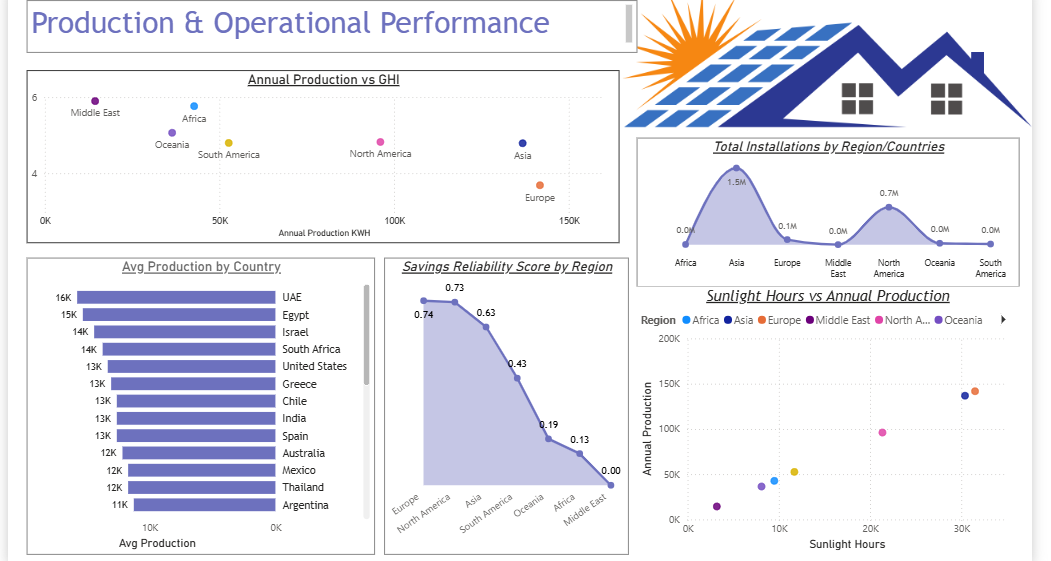

What the dashboard file says about the page in this screenshot:
{"tool":"powerbi","page":{"name":"Production & Operational Performance","canvas":[1280,720],"ordinal":1},"visuals":[{"type":"textbox","box":[22.8,13.4,763.3,65.6],"z":0},{"type":"scatterChart","title":"Annual Production vs GHI","fields":{"X":["Sum(solar_energy_worldwide.Avg_Annual_Production_kWh)"],"Y":["Avg(solar_energy_worldwide.GHI_kWh_per_m2)"],"Series":["solar_energy_worldwide.Region"]},"box":[22.8,101.8,740.6,215.6],"z":1000},{"type":"barChart","fields":{"Y":["Measures Table.Avg Production"],"Category":["solar_energy_worldwide.Country"]},"box":[22.8,336.1,435.2,371],"z":2000},{"type":"lineChart","title":"Total Installations by Region/Countries","fields":{"Y":["Measures Table.Total Installations"],"Category":["solar_energy_worldwide.Region","solar_energy_worldwide.Country"]},"box":[786.1,186.1,478.1,186.1],"z":3000},{"type":"lineChart","fields":{"Y":["Measures Table.Savings Reliability Score"],"Category":["solar_energy_worldwide.Region"]},"box":[470.1,336.1,305.3,371],"z":4000},{"type":"scatterChart","title":"Sunlight Hours vs Annual Production","fields":{"X":["Sum(solar_energy_worldwide.Annual_Sunlight_Hours)"],"Y":["Sum(solar_energy_worldwide.Avg_Annual_Production_kWh)"],"Series":["solar_energy_worldwide.Region"]},"box":[786,372,478,335],"z":5000}]}

Visuals, with their boxes on the page's 1280x720 design canvas (x1, y1, x2, y2). These are canvas units, not pixel positions in the 1051x561 screenshot, which may show the page scaled, cropped or inside an application window:
textbox: 23,13,786,79
"Annual Production vs GHI" scatterChart: 23,102,763,317
barChart - Measures Table.Avg Production x solar_energy_worldwide.Country: 23,336,458,707
"Total Installations by Region/Countries" lineChart: 786,186,1264,372
lineChart - Measures Table.Savings Reliability Score x solar_energy_worldwide.Region: 470,336,775,707
"Sunlight Hours vs Annual Production" scatterChart: 786,372,1264,707
